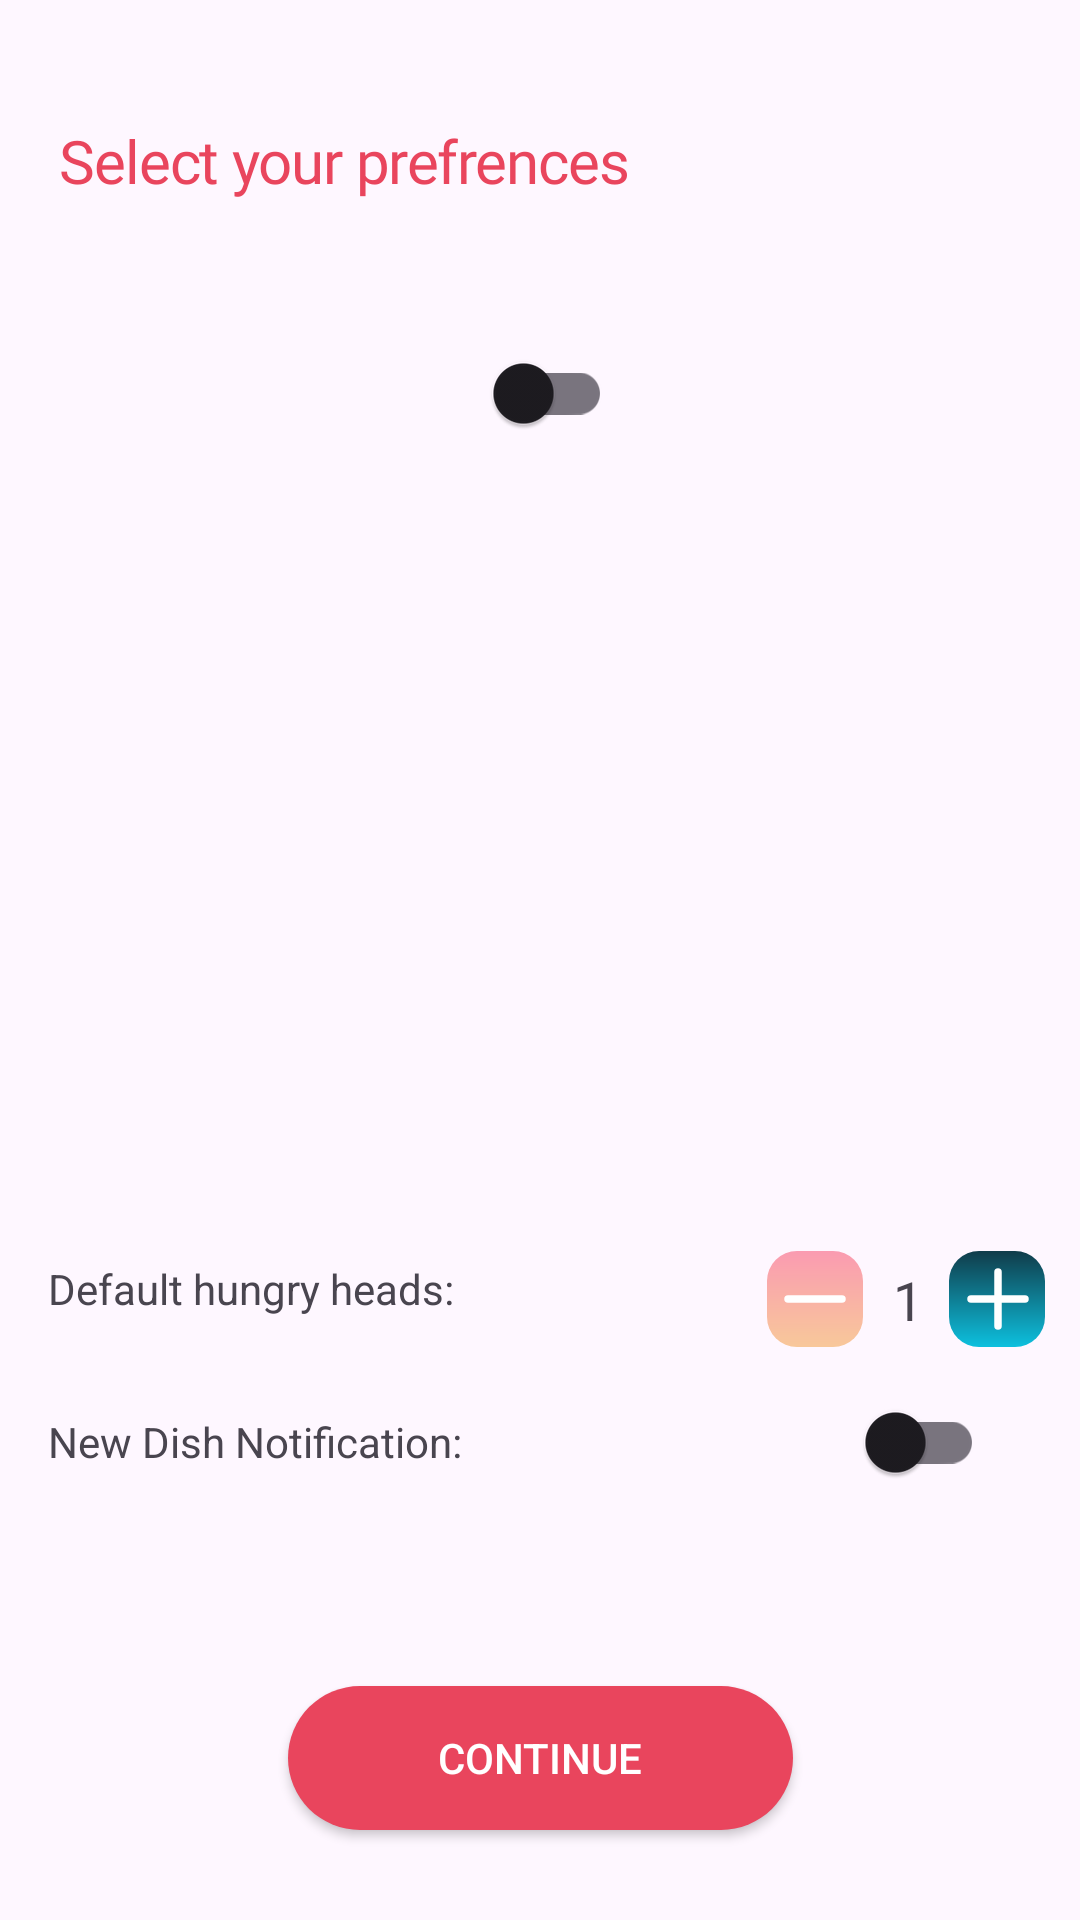

Icon click points for this 1080x1920 phone screenshot, format [x,y]:
add: [998,1306]
minus: [815,1299]
